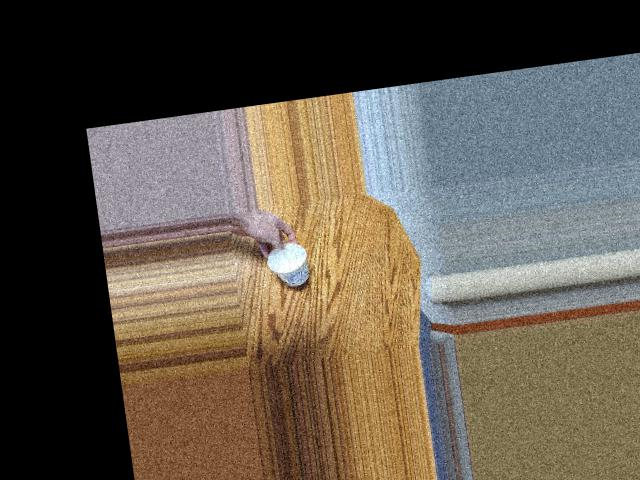cotage: (273, 240, 309, 286)
